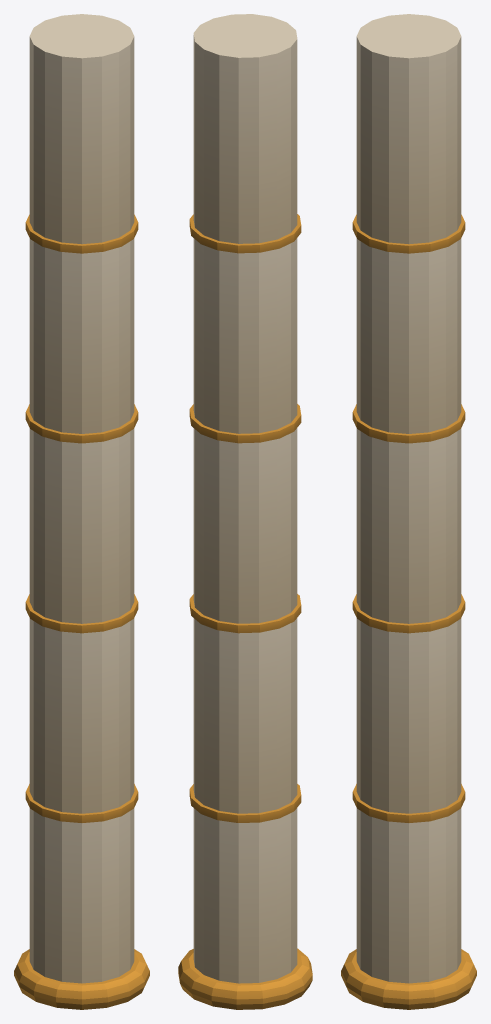
Rendered from Pillar.fbx.
3 renders of one model, left to right at view 1: azimuth 90°, elevation 25°; view 2: azimuth 150°, elevation 25°; view 3: azimuth 270°, elevation 25°, orthographic.
Parts seen in each view (by area): view 1: Pillar; view 2: Pillar; view 3: Pillar.
Boxes of the visible parts, x1=… form: Pillar: x1=14, y1=14, x2=149, y2=1009; Pillar: x1=178, y1=14, x2=312, y2=1009; Pillar: x1=341, y1=14, x2=476, y2=1009.
Size of the model in its own units: 2.59 by 20 by 2.59.
1 material, 1 textured.
